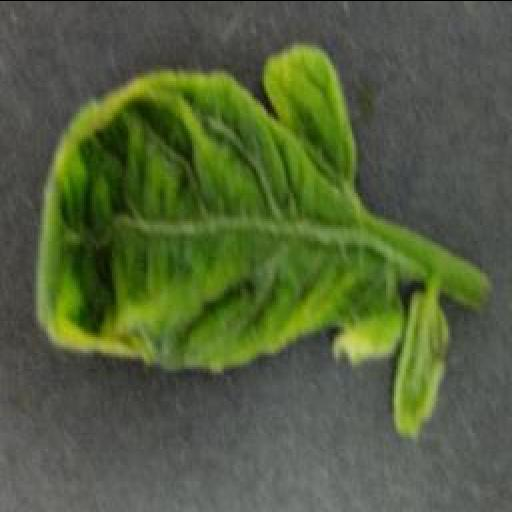disease_tomato: (32, 42, 406, 374)
